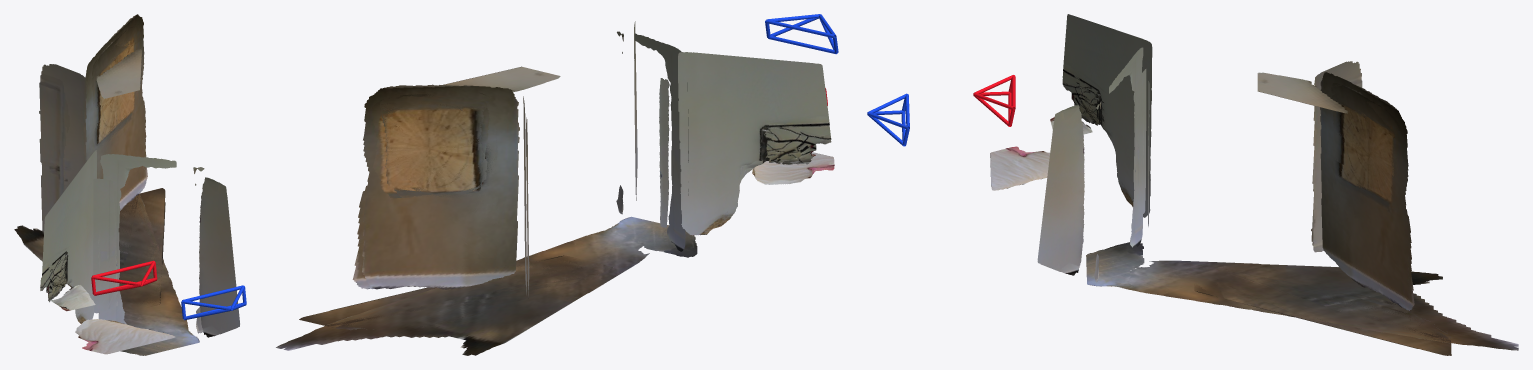
The model's file is refined.obj.
3 renders of one model, left to right at view 1: azimuth 30°, elevation 25°; view 2: azimuth 150°, elevation 25°; view 3: azimuth 270°, elevation 25°, orthographic. The views are drawn at different scales.
Size of the model in its own units: 3.98 by 2.58 by 6.88.
Materials: 22 (20 with a texture image).
